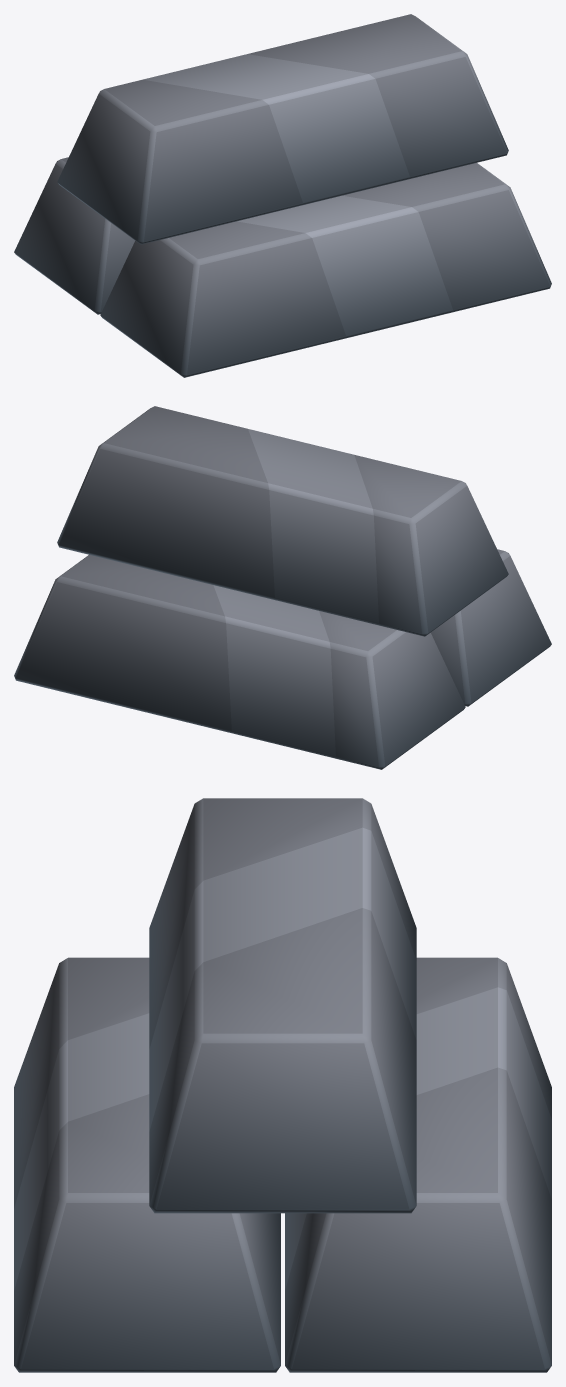
Rendered from Ingot_Iron_2.glb.
The picture shows the model from 3 angles, top to bottom: view 1: azimuth 30°, elevation 25°; view 2: azimuth 150°, elevation 25°; view 3: azimuth 270°, elevation 25°; orthographic projection. The views are drawn at different scales.
Visible parts, largest first — view 1: Ingot_Iron_2; view 2: Ingot_Iron_2; view 3: Ingot_Iron_2.
Boxes of the visible parts, x1=… form: Ingot_Iron_2: x1=14, y1=14, x2=551, y2=377; Ingot_Iron_2: x1=14, y1=406, x2=551, y2=769; Ingot_Iron_2: x1=14, y1=798, x2=551, y2=1372.
Bounding box in the file's own units: 0.994 × 0.516 × 0.7944.
